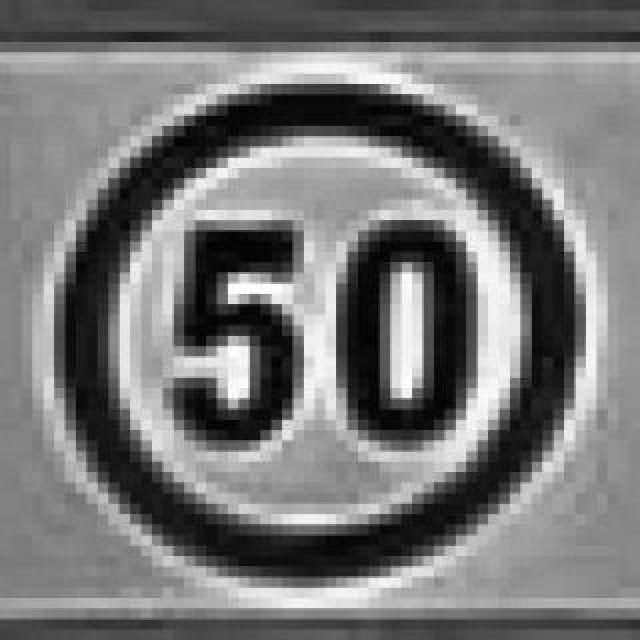50 kph: (44, 64, 576, 578)
